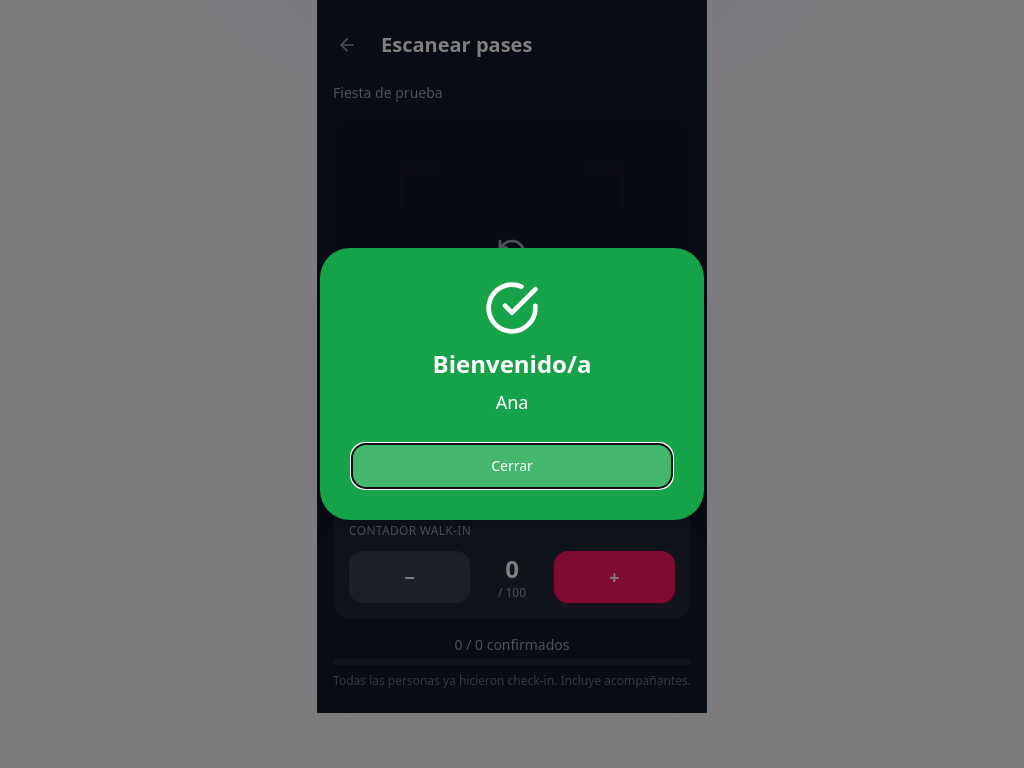
it: Scanner — pantalla de resultado › cerrar el resultado exitoso deja el scanner listo de inmediato, sin reiniciar la cámara ni pisar un check-in con el siguiente
Expected: the text "Ana" is shown, [496,390,528,414]
What coordinates should you click on to do the following:
click the button "Cerrar"
I would click on:
 (512, 466)
Its box is [352,444,672,488].
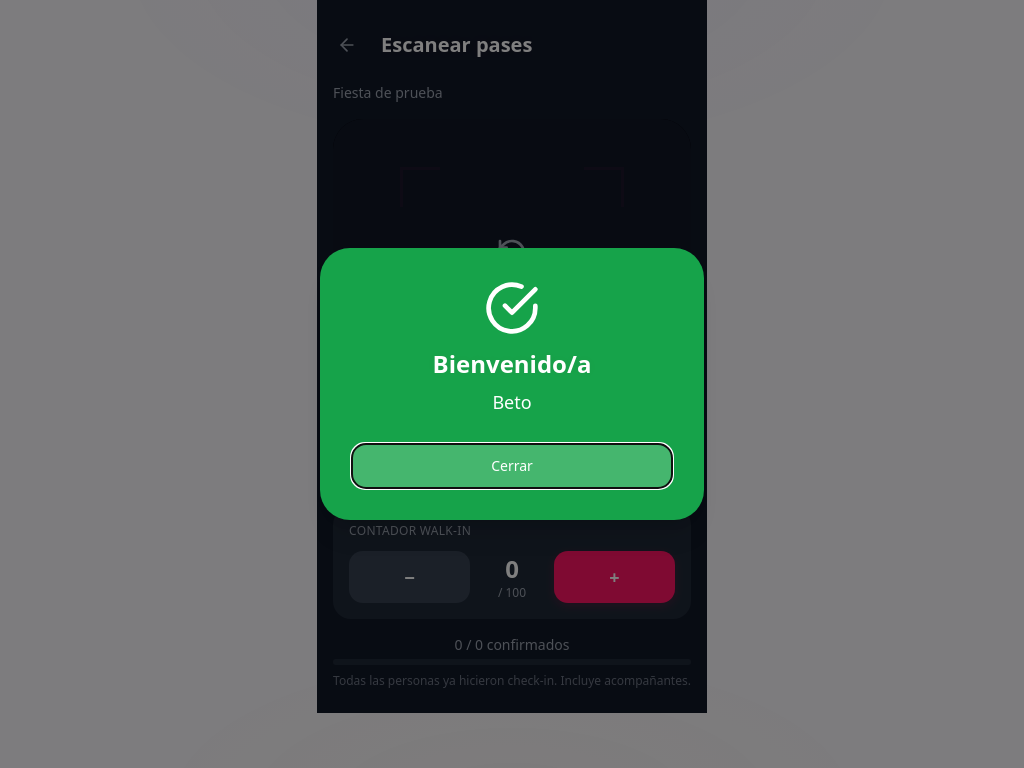
Now the text "Beto" is shown, box [492,390,532,414]
